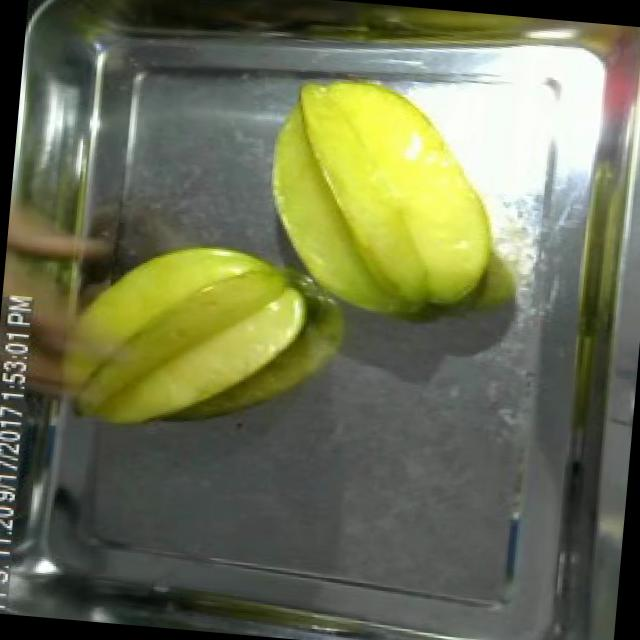fruit: (238, 56, 518, 337), (46, 217, 324, 453)
